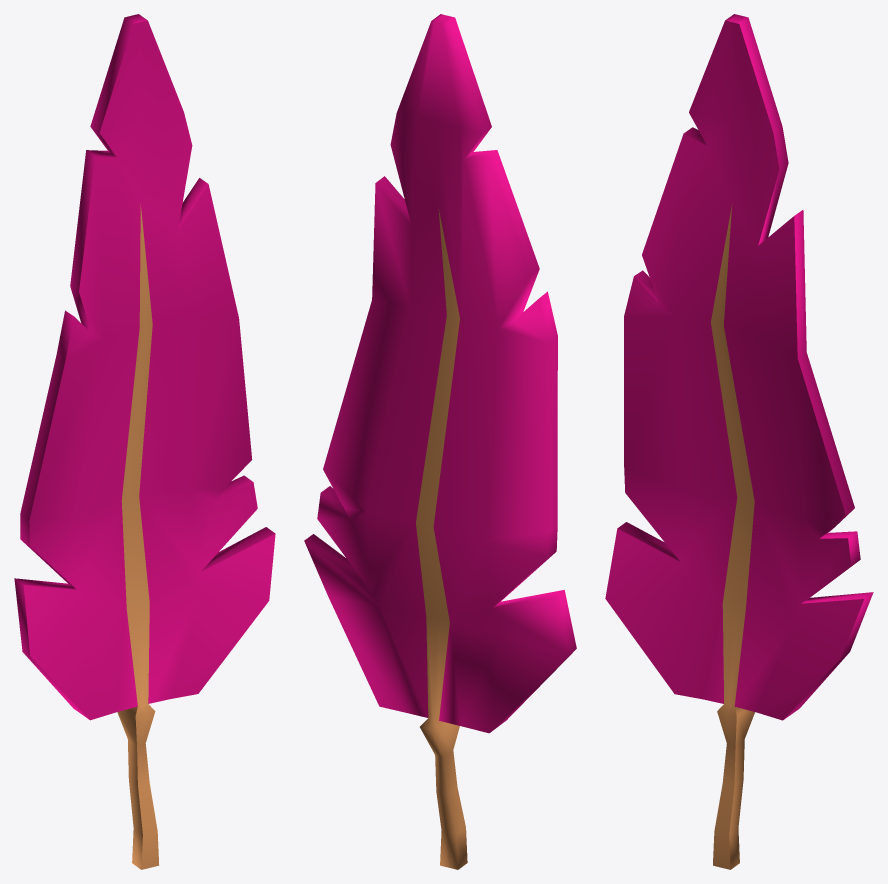
Rendered from feather.fbx.
The picture shows the model from 3 angles, left to right: view 1: azimuth 30°, elevation 25°; view 2: azimuth 150°, elevation 25°; view 3: azimuth 330°, elevation 25°; orthographic projection.
Visible parts, largest first — view 1: feather_blue; view 2: feather_blue; view 3: feather_blue.
Part boxes in pixels (<box>): feather_blue: <box>14,14,275,869</box>; feather_blue: <box>304,14,576,869</box>; feather_blue: <box>605,14,873,869</box>.
Bounding box in the file's own units: 9.38 × 29.75 × 2.42.
